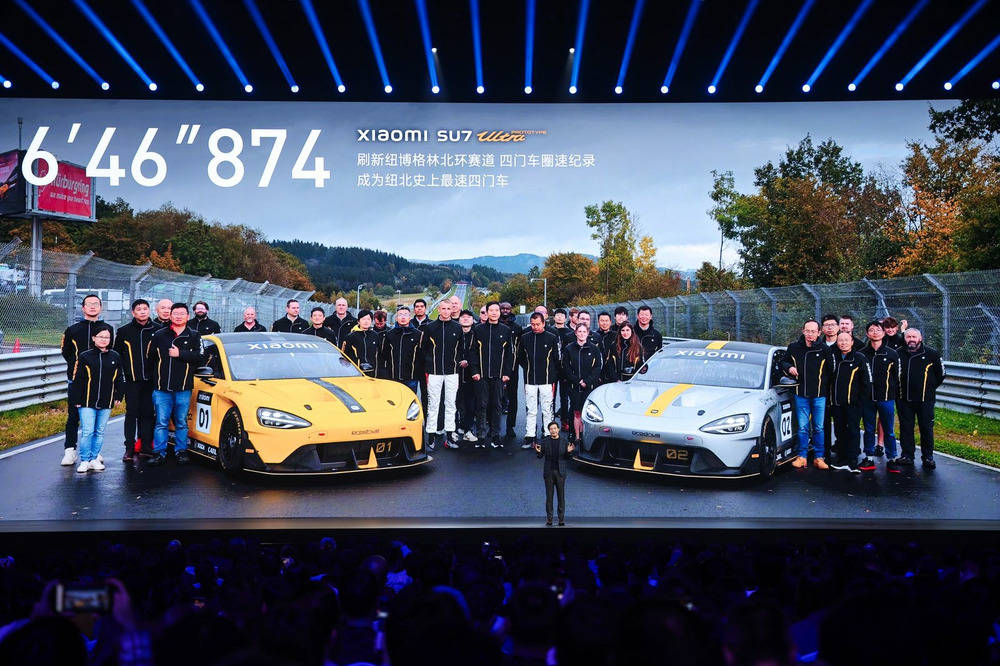su7: (156, 320, 435, 482), (579, 337, 803, 484)
